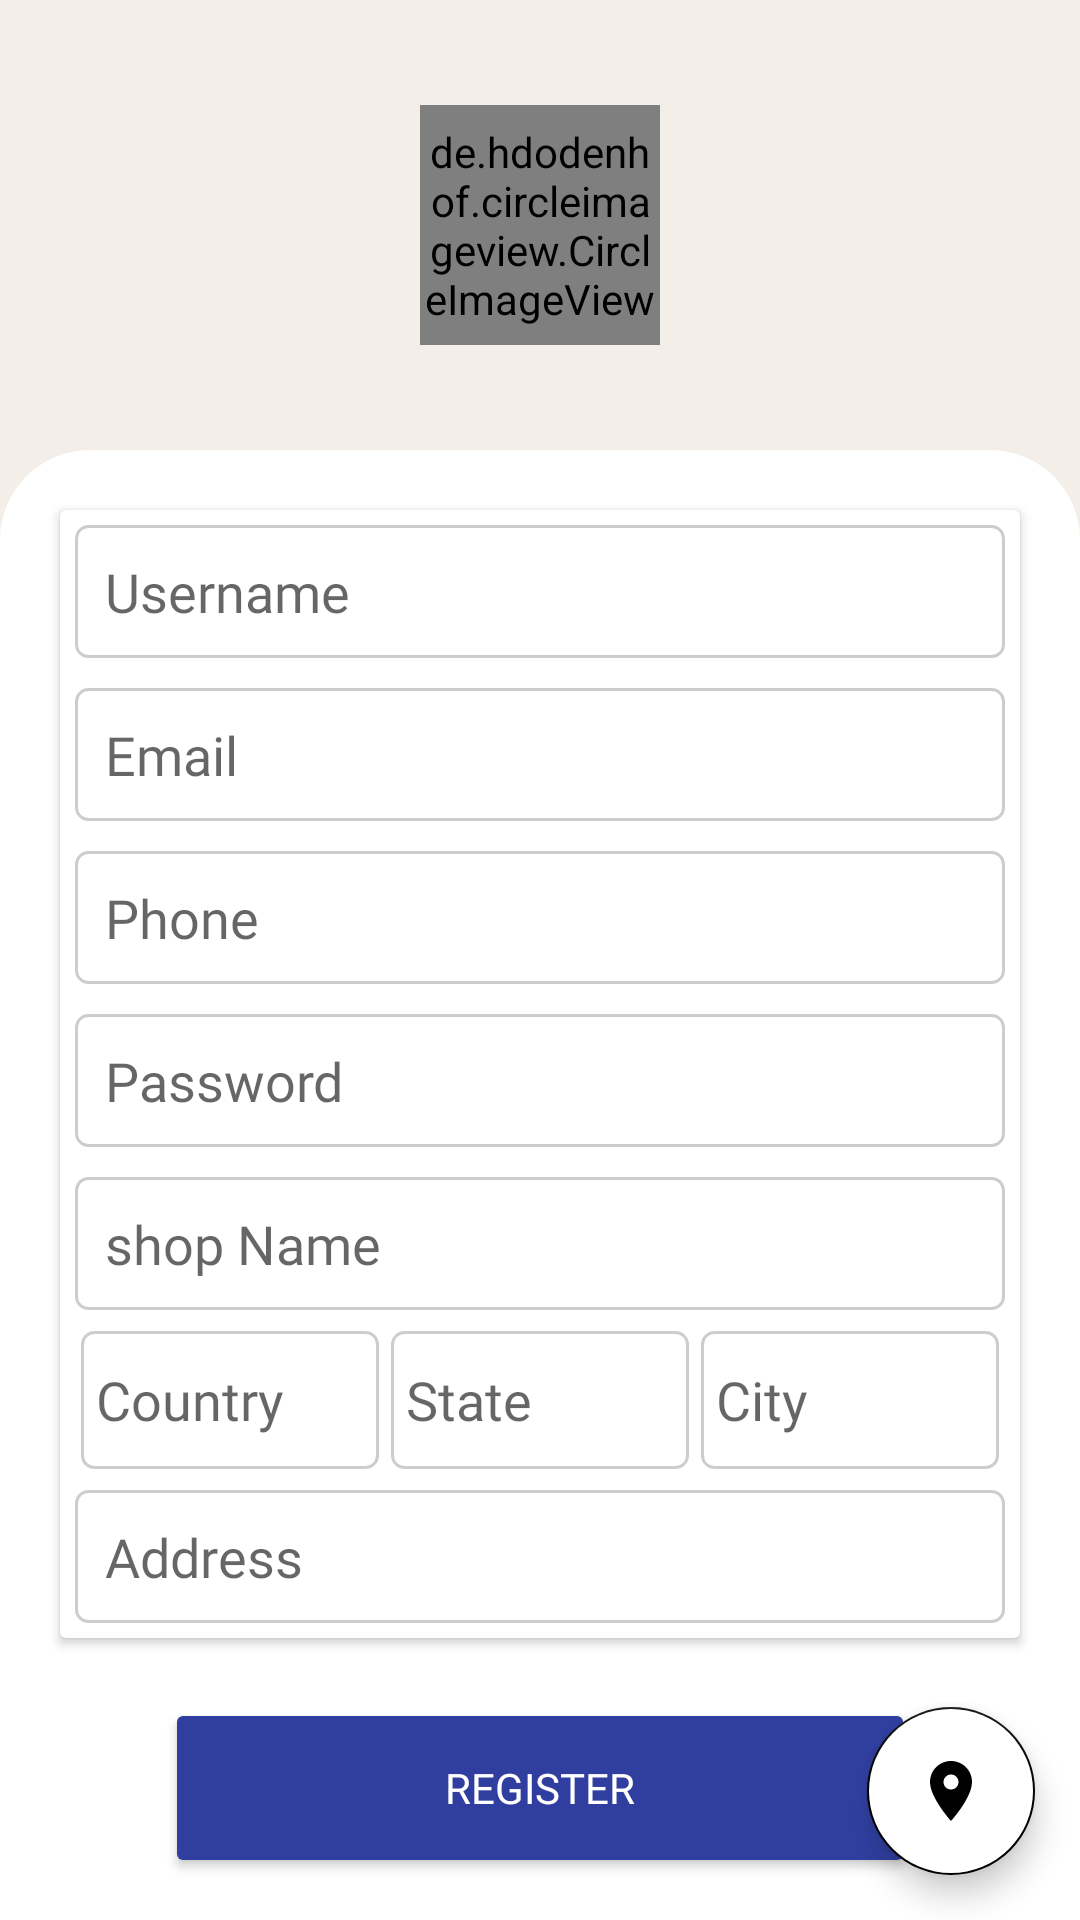

Icons on this 1080w x 1920h Android screen, each with its box as box=[x1, y1, x2, y2]:
location on: box=[867, 1707, 1035, 1875]
